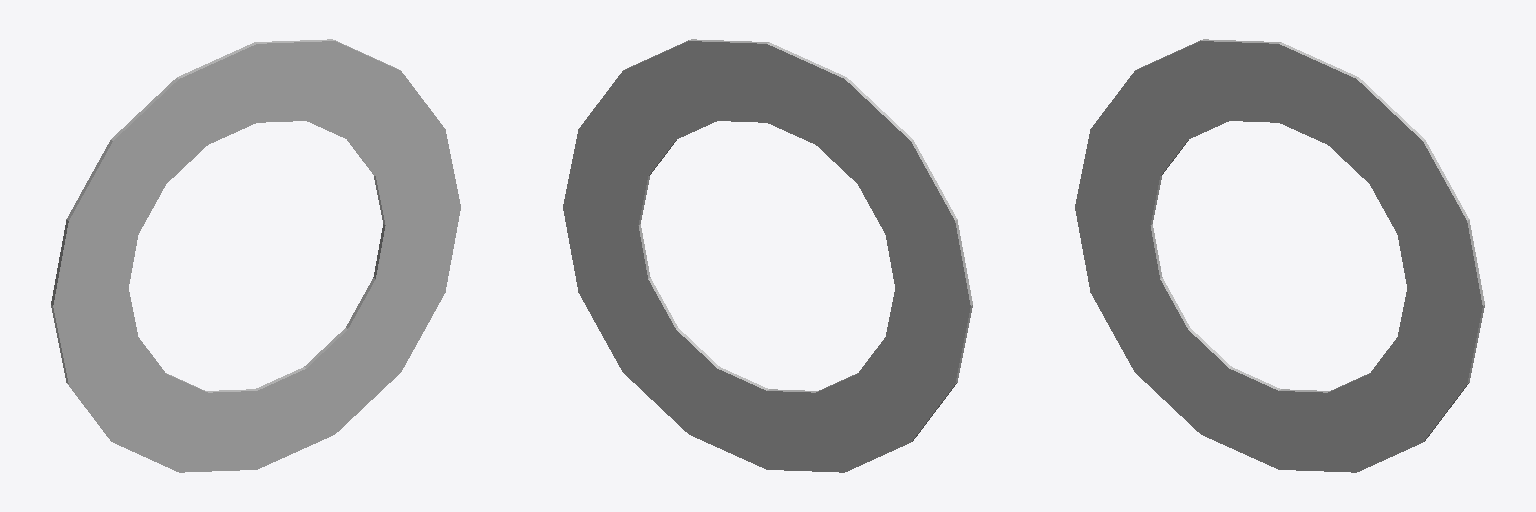
Rendered from hoop_1.obj.
3 renders of one model, left to right at view 1: azimuth 30°, elevation 25°; view 2: azimuth 150°, elevation 25°; view 3: azimuth 330°, elevation 25°, orthographic.
Visible parts, largest first — view 1: hoop_Cube.003; view 2: hoop_Cube.003; view 3: hoop_Cube.003.
Boxes of the visible parts, x1=… form: hoop_Cube.003: x1=51, y1=39, x2=460, y2=472; hoop_Cube.003: x1=563, y1=39, x2=972, y2=472; hoop_Cube.003: x1=1075, y1=39, x2=1484, y2=472.
Bounding box in the file's own units: 1 × 1 × 0.01.